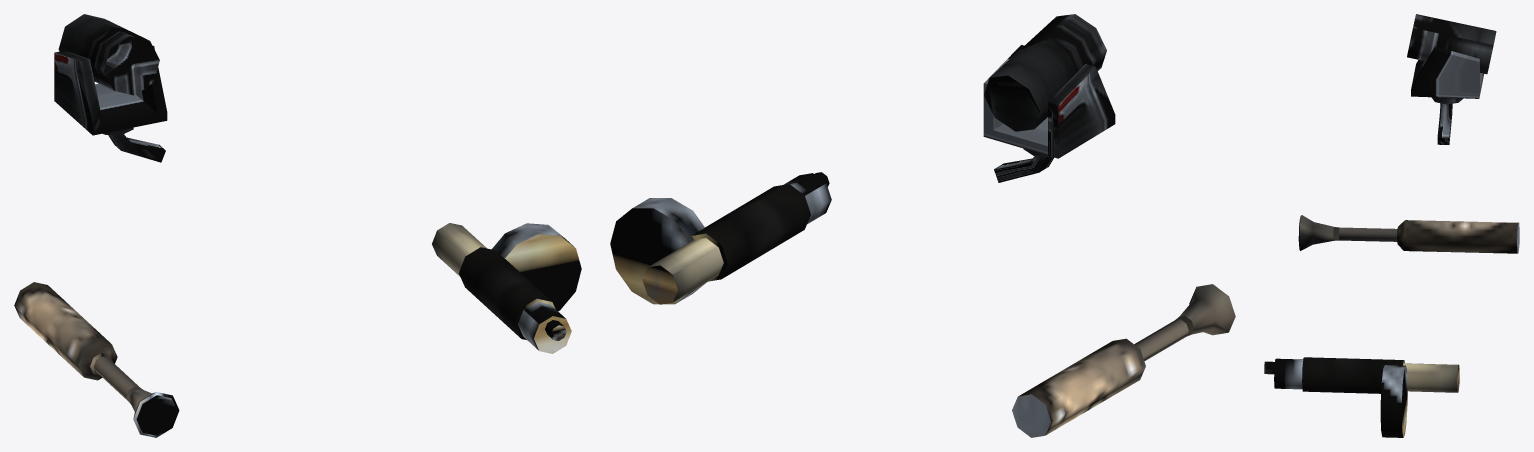
File: Mech01@Mech01Rocket.fbx
The picture shows the model from 3 angles, left to right: view 1: azimuth 30°, elevation 25°; view 2: azimuth 150°, elevation 25°; view 3: azimuth 270°, elevation 25°; orthographic projection. The views are drawn at different scales.
Visible parts, largest first — view 1: mech01_v5_rig:Cannon, mech01_v5_rig:rocketLauncher, mech01_v5_rig:laser; view 2: mech01_v5_rig:Cannon, mech01_v5_rig:rocketLauncher, mech01_v5_rig:laser; view 3: mech01_v5_rig:Cannon, mech01_v5_rig:rocketLauncher, mech01_v5_rig:laser.
Part boxes in pixels (x1,y1,x2,y2): mech01_v5_rig:Cannon: (432,223,581,353); mech01_v5_rig:rocketLauncher: (54,14,167,162); mech01_v5_rig:laser: (14,282,179,437); mech01_v5_rig:Cannon: (610,172,831,304); mech01_v5_rig:rocketLauncher: (983,14,1115,182); mech01_v5_rig:laser: (1012,284,1235,437); mech01_v5_rig:Cannon: (1264,357,1459,437); mech01_v5_rig:rocketLauncher: (1407,14,1496,144); mech01_v5_rig:laser: (1298,215,1519,253).
Size of the model in its own units: 877 by 608 by 511.
